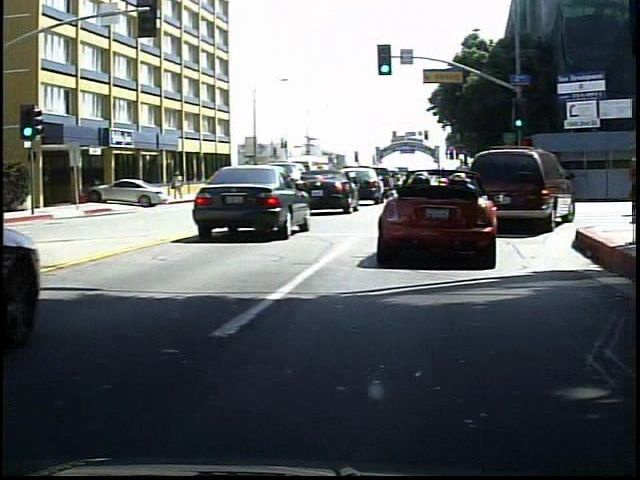person: (168, 169, 182, 203)
